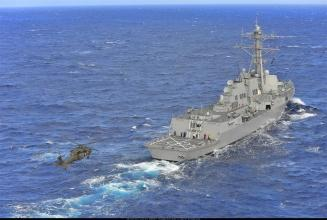airplane: (53, 134, 103, 171)
warship: (147, 17, 297, 171)
